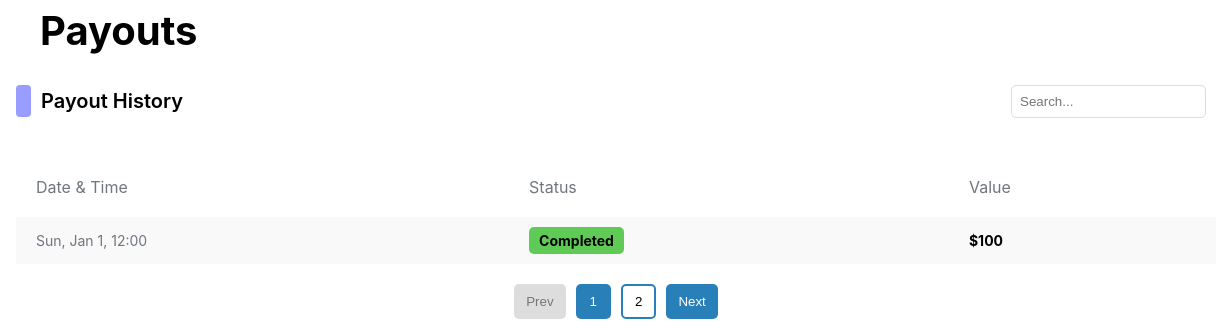
Payout Component › handles search and displays filtered data
Expected: the text "Payout History" is shown, left=41, top=85, right=183, bottom=117
Expected: the text "Completed" is shown, left=529, top=227, right=624, bottom=254
In the field with test id "search-input": [1108, 101] box left=1011, top=84, right=1206, bottom=118, type "Pending"
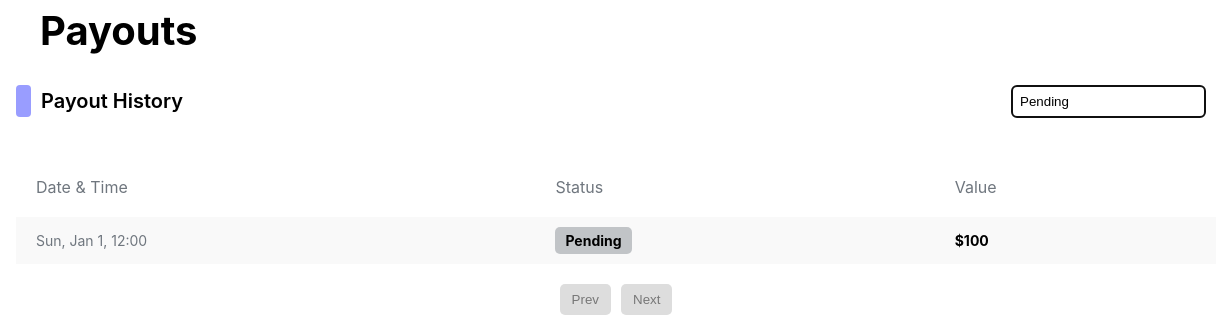
Now the text "Pending" is shown, box left=555, top=227, right=632, bottom=254
